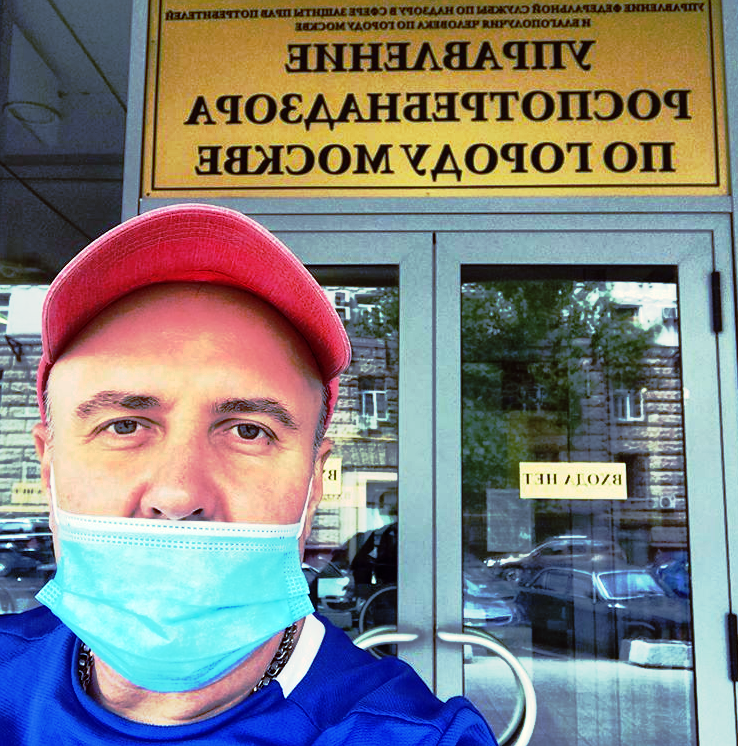mask_weared_incorrect: (26, 240, 331, 683)
